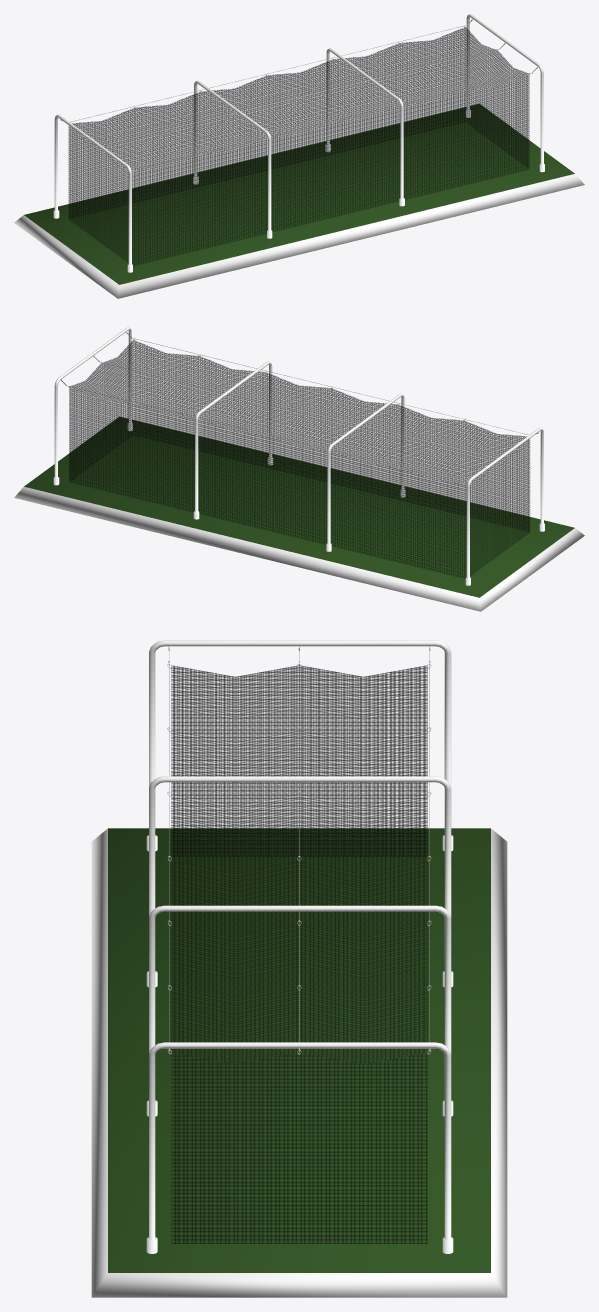
Rendered from Outdoor Varsity 55.glb.
The picture shows the model from 3 angles, top to bottom: view 1: azimuth 30°, elevation 25°; view 2: azimuth 150°, elevation 25°; view 3: azimuth 270°, elevation 25°; orthographic projection. The views are drawn at different scales.
Parts seen in each view (by area): view 1: Playground.005, Playground.004; view 2: Playground.005, Playground.004; view 3: Playground.004, Playground.005.
Boxes of the visible parts, x1,y1,x2,y2 form: Playground.005: (68, 27, 529, 265); Playground.004: (14, 14, 584, 298); Playground.005: (69, 340, 530, 578); Playground.004: (14, 327, 584, 611); Playground.004: (91, 640, 507, 1297); Playground.005: (171, 665, 427, 1243).
Bounding box in the file's own units: 18.57 × 4.33 × 7.16.
Materials: 5 (1 with a texture image).
